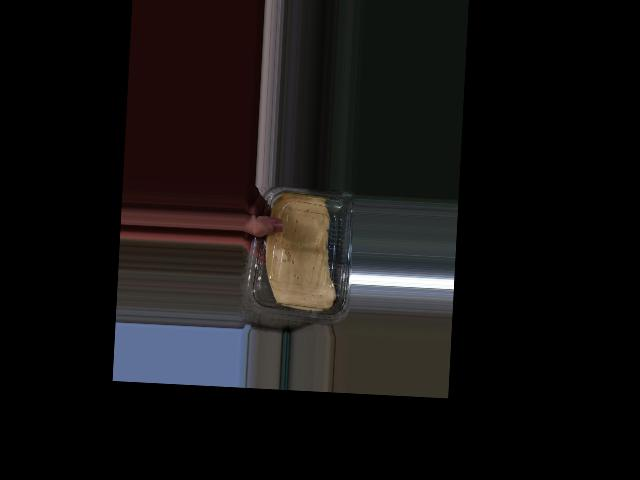cheese: (255, 185, 356, 325)
